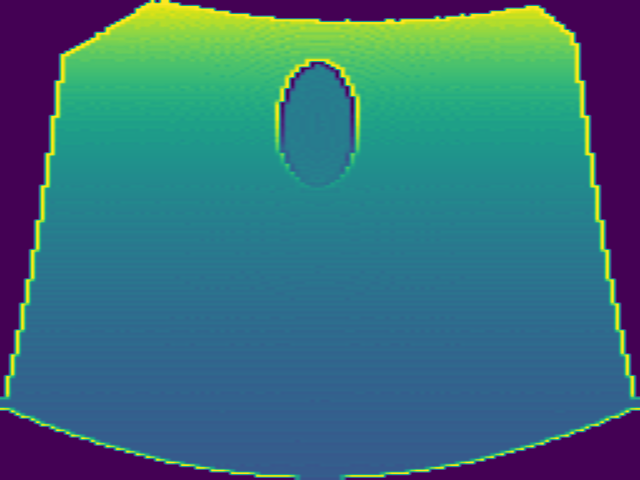sphere: (274, 58, 361, 187)
